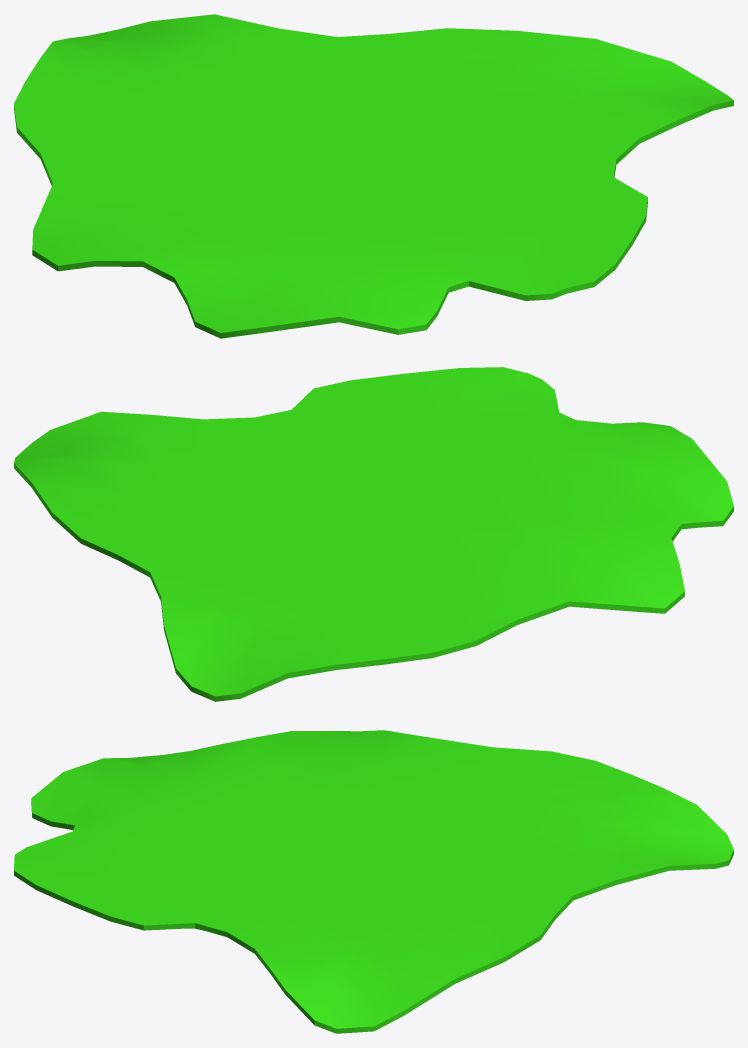
File: salad_0.fbx
3 renders of one model, top to bottom at view 1: azimuth 30°, elevation 25°; view 2: azimuth 150°, elevation 25°; view 3: azimuth 270°, elevation 25°, orthographic. The views are drawn at different scales.
Parts seen in each view (by area): view 1: Salad_0; view 2: Salad_0; view 3: Salad_0.
Part boxes in pixels (box(x1,y1,x2,y2)): Salad_0: box(14, 14, 733, 338); Salad_0: box(14, 367, 733, 701); Salad_0: box(14, 730, 733, 1033).
Bounding box in the file's own units: 293 × 13.1 × 302.
